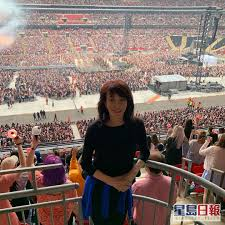people: (84, 80, 149, 225), (34, 159, 72, 225), (140, 155, 170, 225), (202, 134, 225, 209), (168, 126, 183, 201)
